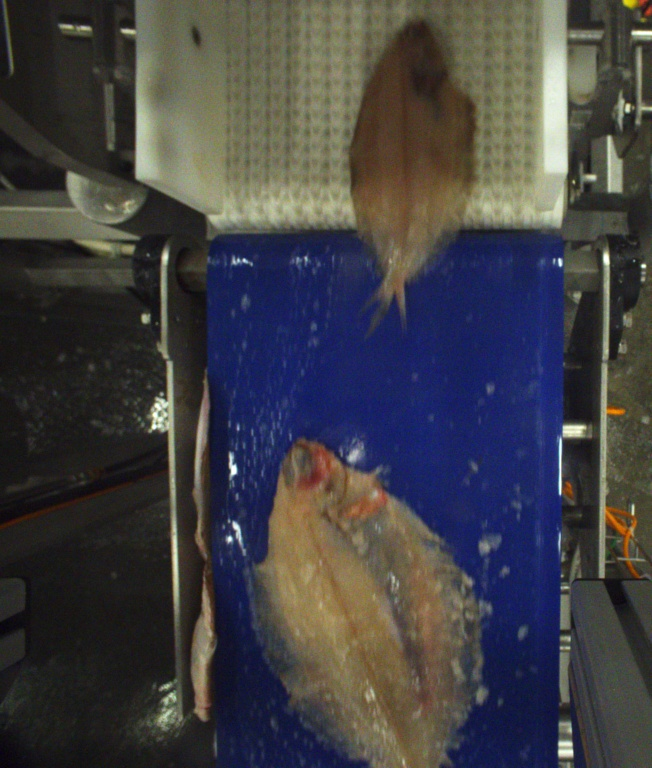WIT: (350, 18, 478, 326)
